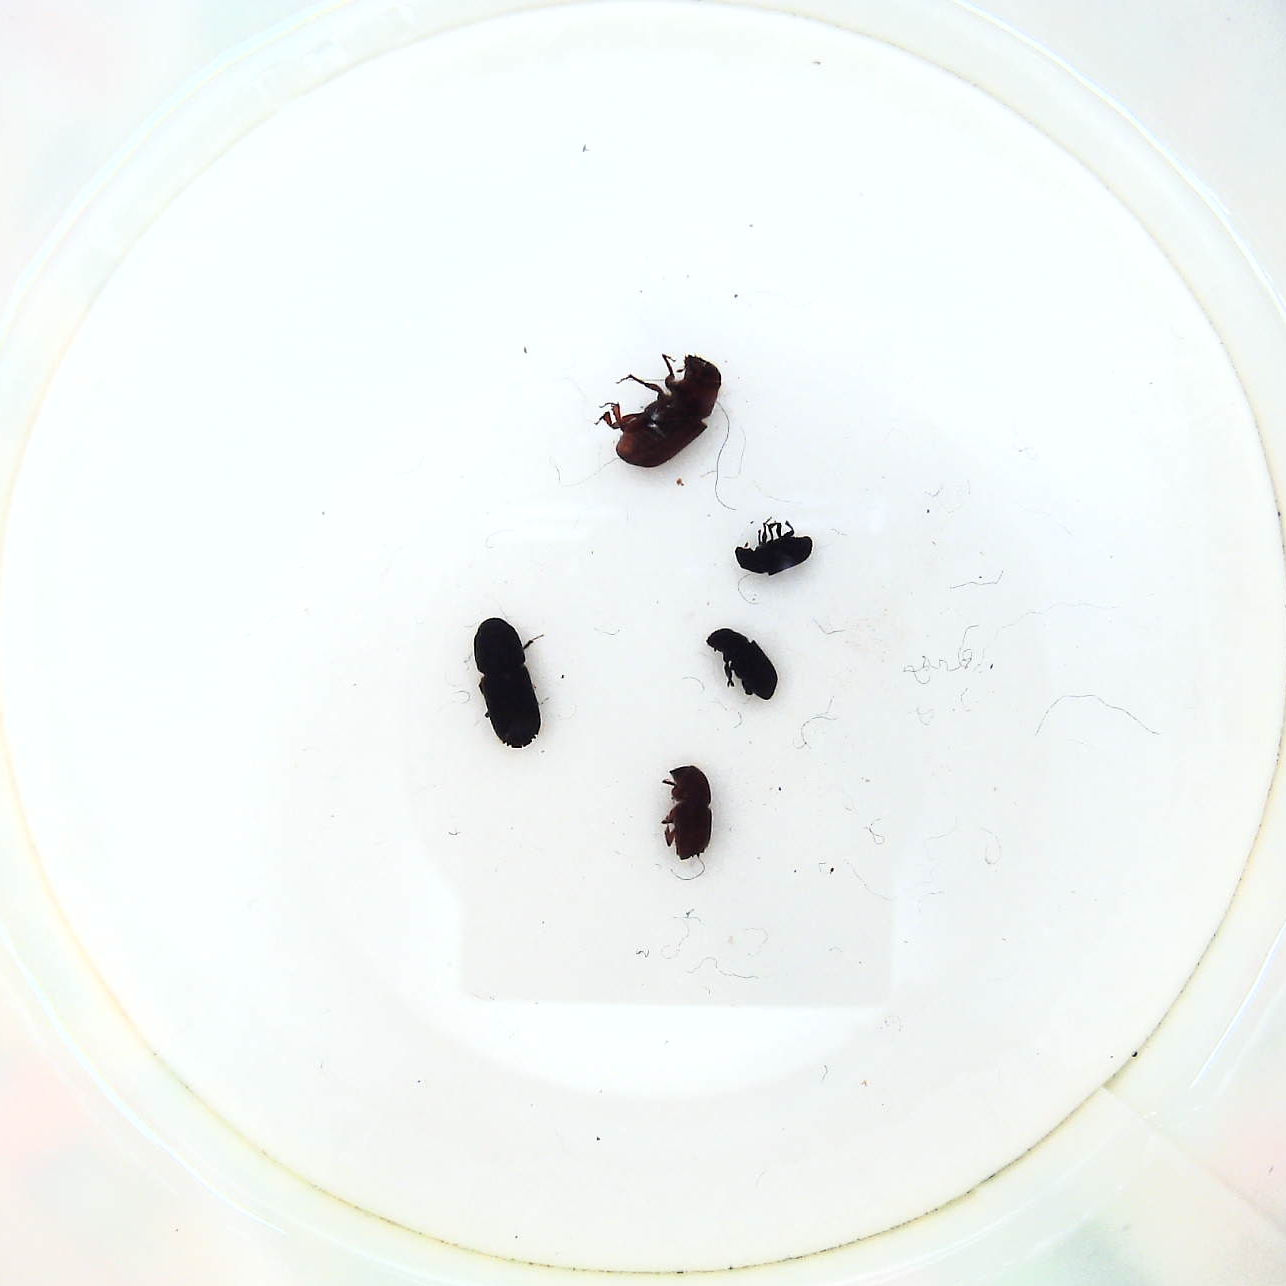Boerner: (468, 611, 546, 753)
Leconte: (594, 350, 725, 472)
armandi: (704, 621, 782, 708)
coleoptera: (731, 518, 816, 582)
linnaeus: (655, 760, 724, 867)
